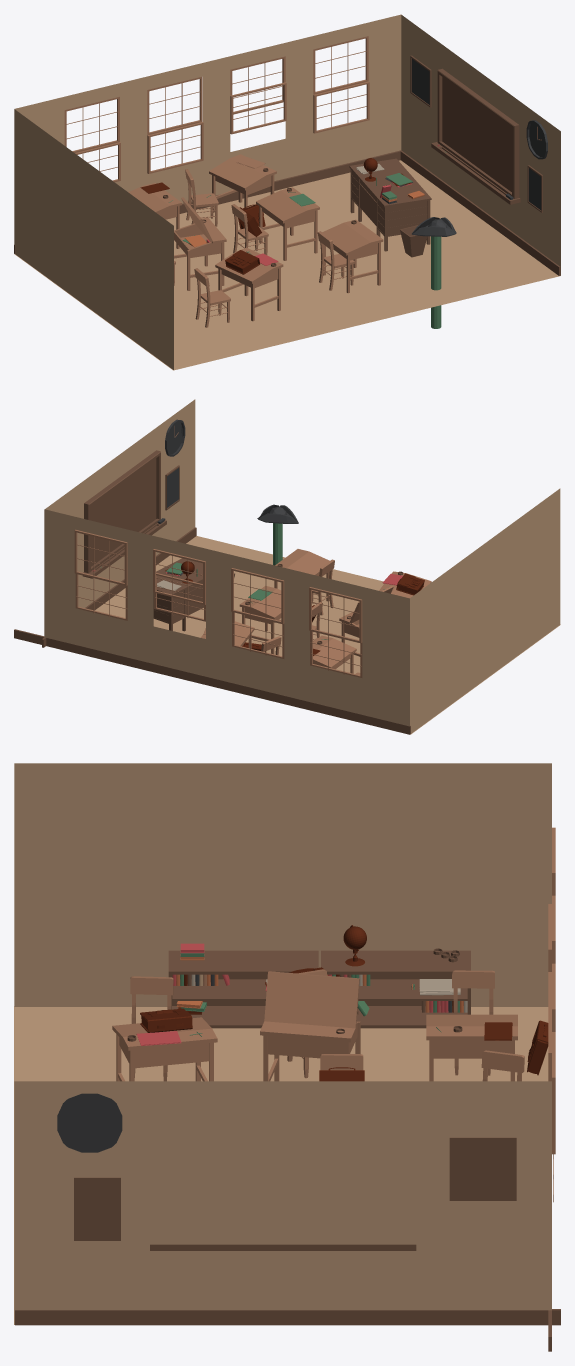
File: classroomlowpoly.fbx
The picture shows the model from 3 angles, top to bottom: view 1: azimuth 30°, elevation 25°; view 2: azimuth 150°, elevation 25°; view 3: azimuth 270°, elevation 25°; orthographic projection. The views are drawn at different scales.
Parts seen in each view (by area): view 1: Mur1, Cylinder.005, Cube.016; view 2: Mur1, Cube.016; view 3: Mur1.
Boxes of the visible parts, <box> form: Mur1: <box>14,14,560,370</box>; Cylinder.005: <box>431,236,441,328</box>; Cube.016: <box>411,217,456,236</box>; Mur1: <box>14,399,560,734</box>; Cube.016: <box>257,504,298,523</box>; Mur1: <box>14,763,560,1351</box>.
Bounding box in the file's own units: 1520 × 634 × 1017.
